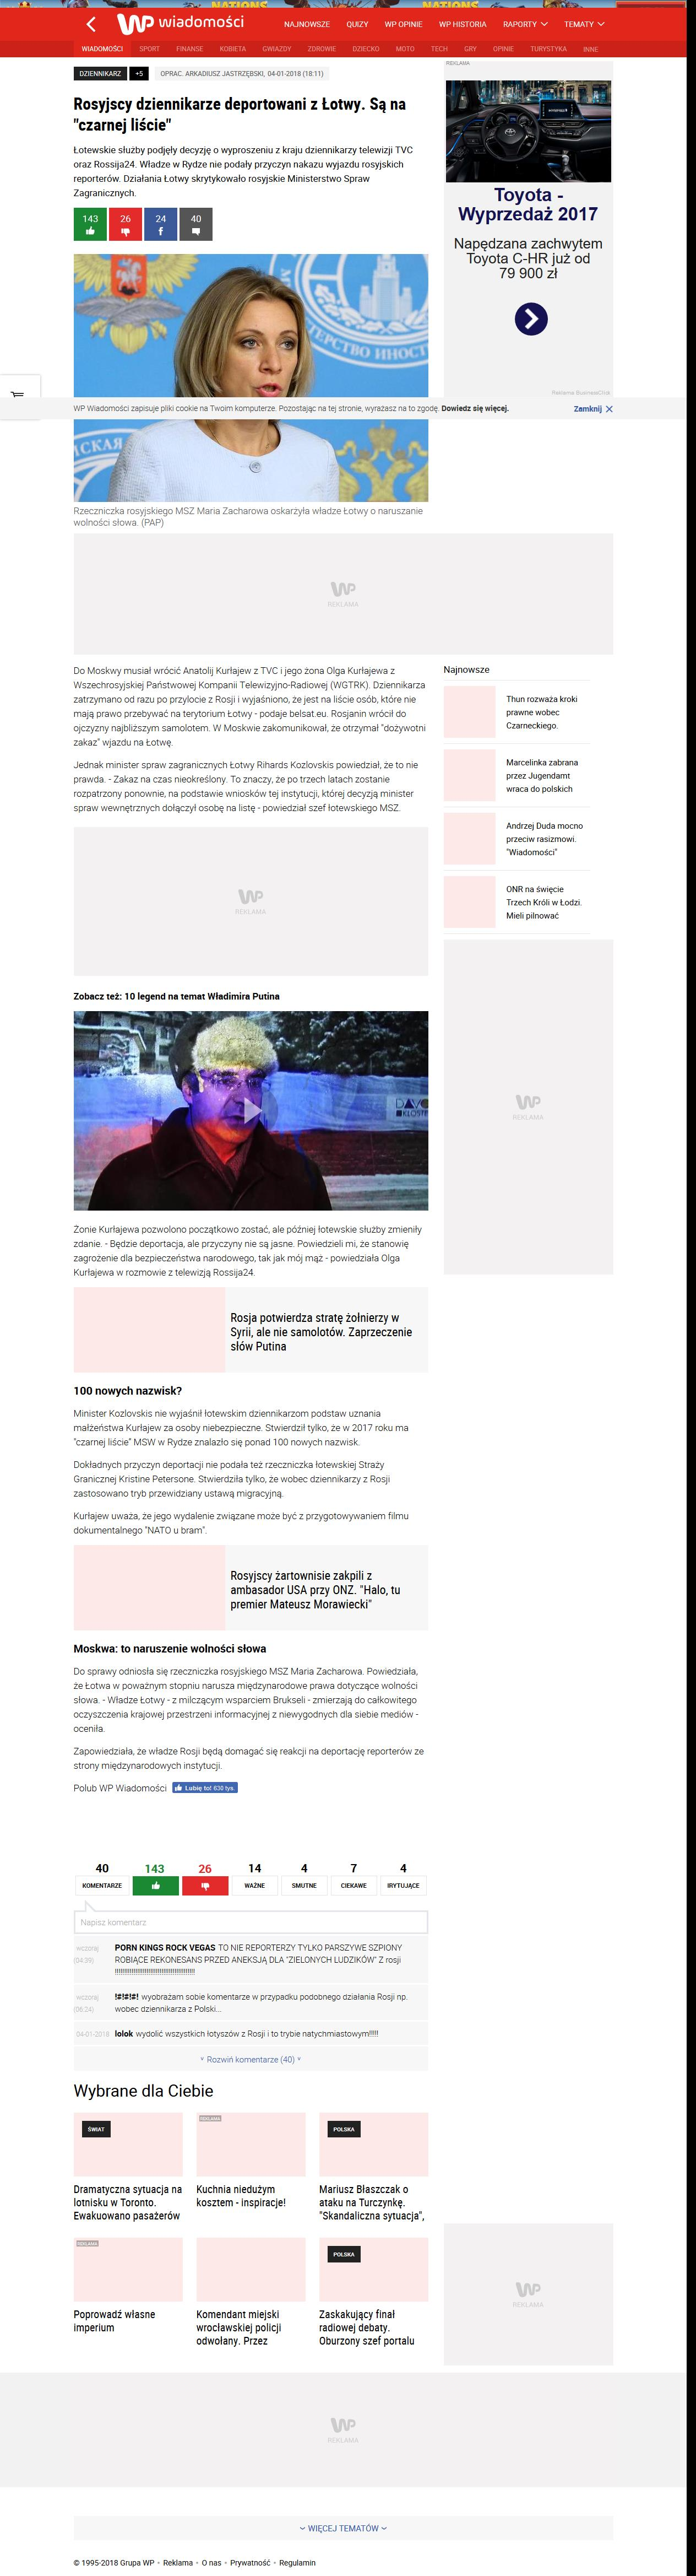title: (72, 95, 407, 133)
